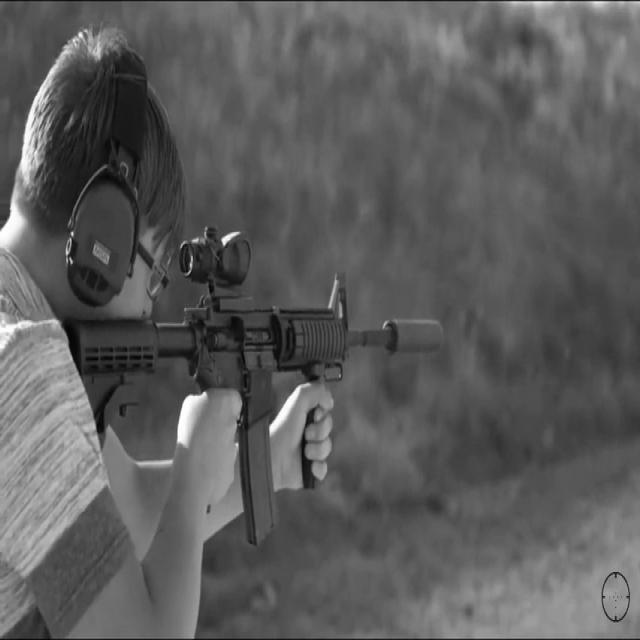Sniper: (14, 163, 460, 640)
